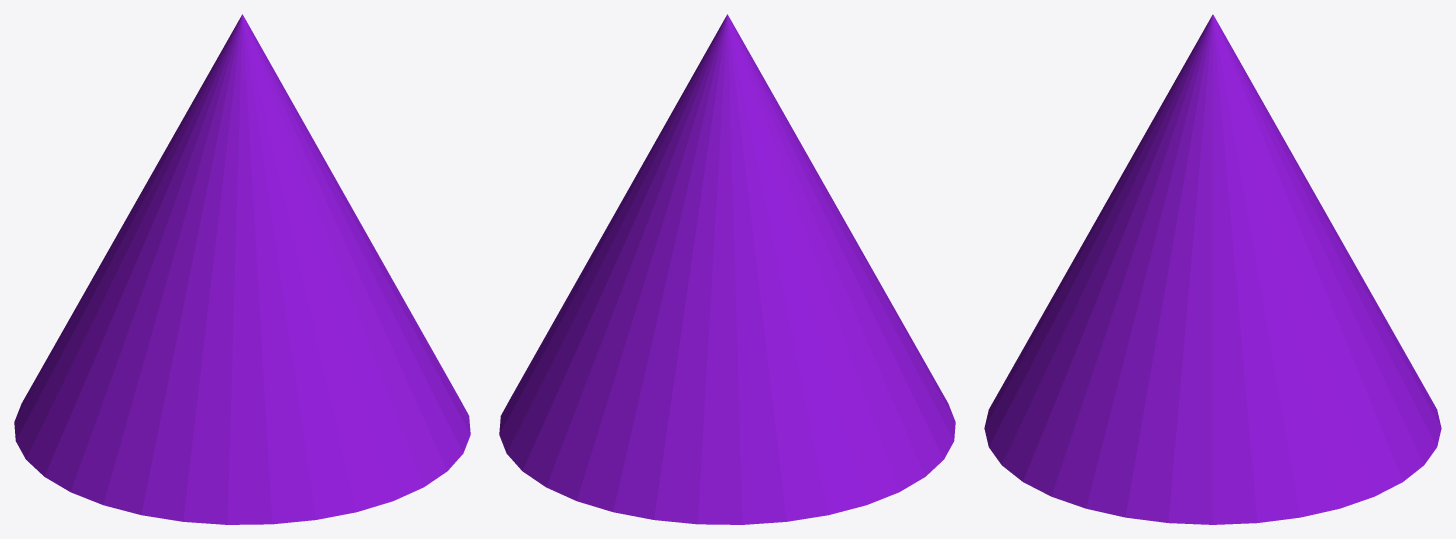
File: davidCubeB3.gltf
3 renders of one model, left to right at view 1: azimuth 30°, elevation 25°; view 2: azimuth 150°, elevation 25°; view 3: azimuth 270°, elevation 25°, orthographic.
Parts seen in each view (by area): view 1: davidCubeB3; view 2: davidCubeB3; view 3: davidCubeB3.
Part boxes in pixels (box(x1,y1,x2,y2)): davidCubeB3: box(14, 14, 470, 524); davidCubeB3: box(499, 14, 955, 524); davidCubeB3: box(984, 14, 1441, 524).
Size of the model in its own units: 0.8652 by 0.8652 by 0.8652.
